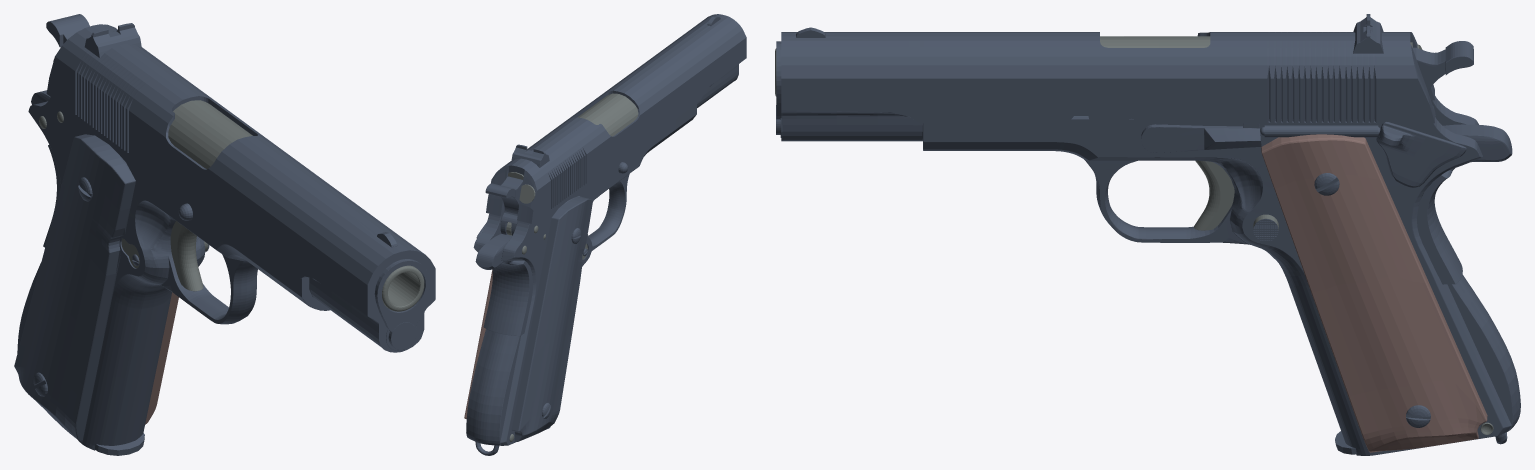
File: Colt.fbx
3 renders of one model, left to right at view 1: azimuth 30°, elevation 25°; view 2: azimuth 150°, elevation 25°; view 3: azimuth 270°, elevation 25°, orthographic. The views are drawn at different scales.
Visible parts, largest first — view 1: Colt; view 2: Colt; view 3: Colt.
Part boxes in pixels (box(x1,y1,x2,y2)): Colt: box(14, 14, 435, 455); Colt: box(464, 14, 746, 455); Colt: box(775, 14, 1520, 455).
Bounding box in the file's own units: 9.54 × 36.74 × 58.73.
